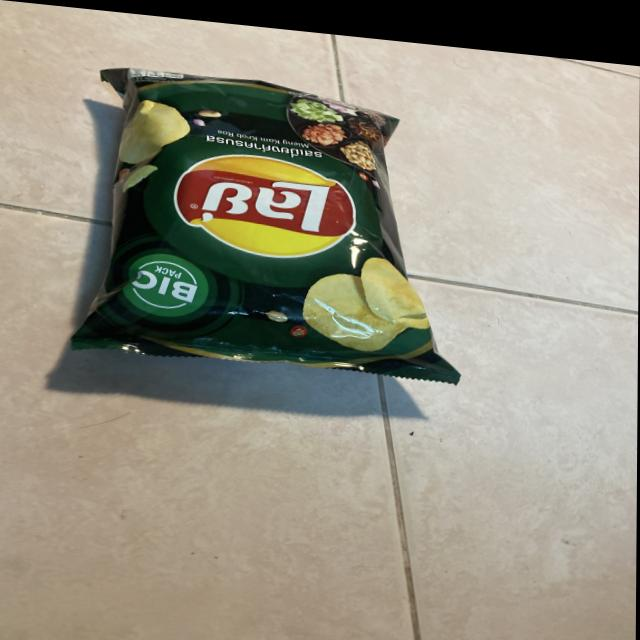Laygreen: (74, 45, 469, 411)
